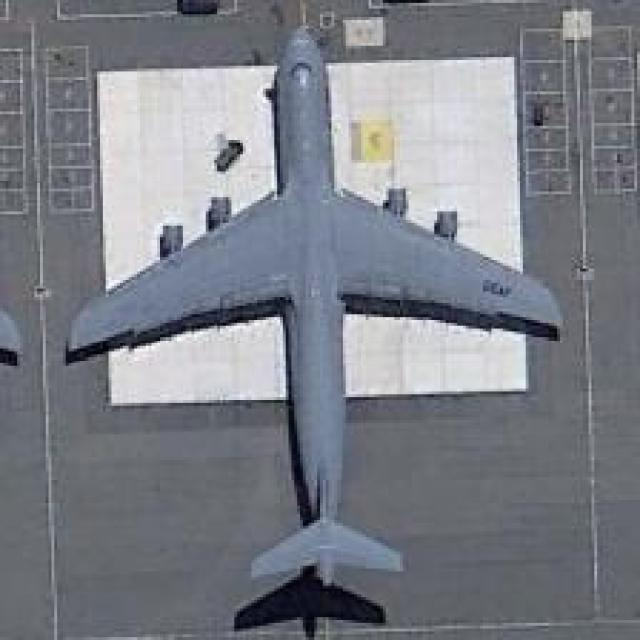C-5_TopDown: (59, 29, 587, 632)
